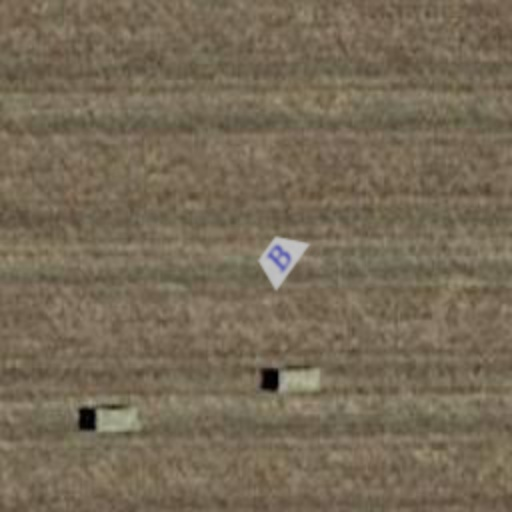trapezoid: (238, 216, 322, 300)
